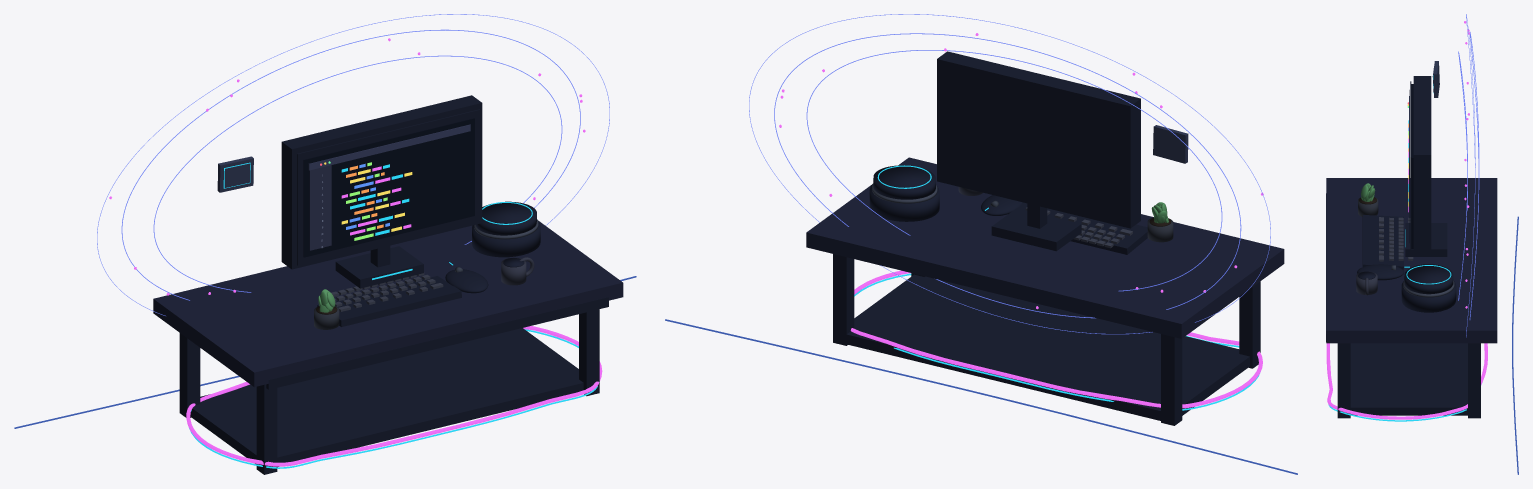
Rendered from work-station.glb.
The picture shows the model from 3 angles, left to right: view 1: azimuth 30°, elevation 25°; view 2: azimuth 150°, elevation 25°; view 3: azimuth 270°, elevation 25°; orthographic projection. The views are drawn at different scales.
Visible parts, largest first — view 1: Coffee_Surface, Desk_Top, Monitor_Glass, Background_Orbit_0, Orbit_Node_0, IDE_Sidebar, Key_0_0, Device_Top_Glow_Ring, IDE_Topbar, React_Card, Coffee_Mug; view 2: Coffee_Surface, Desk_Top, Background_Orbit_0, Orbit_Node_0, Horizon_Glow, Device_Top_Glow_Ring, React_Card, Key_0_0; view 3: Desk_Top, Coffee_Surface, Background_Orbit_0, Orbit_Node_0, Key_0_0, Monitor_Glass, Horizon_Glow, Device_Top_Glow_Ring, Coffee_Mug, Plant_Pot, React_Card, Device_Ring (+1 smaller).
Part boxes in pixels (<box>): Coffee_Surface: <box>179,95,608,474</box>; Desk_Top: <box>153,221,623,387</box>; Monitor_Glass: <box>303,118,474,257</box>; Background_Orbit_0: <box>97,14,609,315</box>; Orbit_Node_0: <box>109,38,602,466</box>; IDE_Sidebar: <box>309,165,331,250</box>; Key_0_0: <box>331,272,443,311</box>; Device_Top_Glow_Ring: <box>189,202,597,468</box>; IDE_Topbar: <box>308,124,470,170</box>; React_Card: <box>217,156,253,192</box>; Coffee_Mug: <box>501,257,534,285</box>; Coffee_Surface: <box>833,51,1260,425</box>; Desk_Top: <box>806,157,1284,338</box>; Background_Orbit_0: <box>749,14,1270,334</box>; Orbit_Node_0: <box>779,33,1263,408</box>; Horizon_Glow: <box>665,319,1297,474</box>; Device_Top_Glow_Ring: <box>854,165,1259,410</box>; React_Card: <box>1153,125,1188,163</box>; Key_0_0: <box>1025,207,1132,248</box>; Desk_Top: <box>1326,178,1497,343</box>; Coffee_Surface: <box>1326,76,1480,418</box>; Background_Orbit_0: <box>1458,14,1479,337</box>; Orbit_Node_0: <box>1326,21,1487,419</box>; Key_0_0: <box>1379,217,1413,261</box>; Monitor_Glass: <box>1409,84,1413,248</box>; Horizon_Glow: <box>1512,216,1518,474</box>; Device_Top_Glow_Ring: <box>1328,229,1466,421</box>; Coffee_Mug: <box>1356,271,1377,295</box>; Plant_Pot: <box>1358,197,1378,216</box>; React_Card: <box>1432,61,1439,97</box>; Device_Ring: <box>1403,280,1454,297</box>.
Bounding box in the file's own units: 16 × 8.56 × 5.07.
